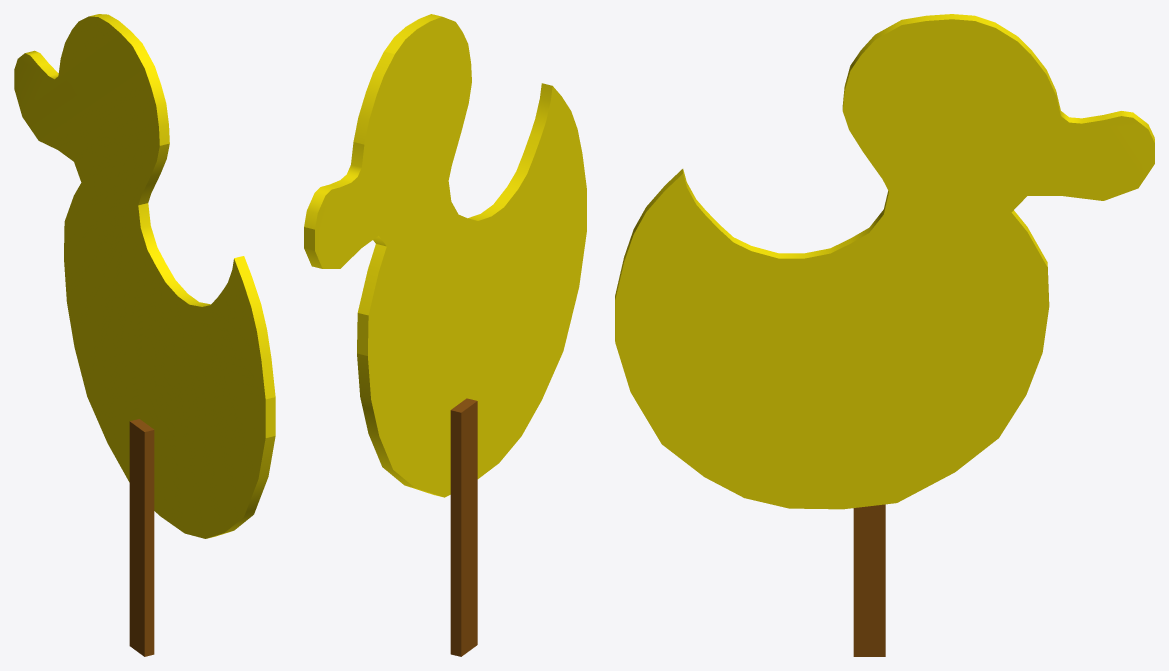
File: DuckTarget.obj
The picture shows the model from 3 angles, left to right: view 1: azimuth 30°, elevation 25°; view 2: azimuth 150°, elevation 25°; view 3: azimuth 270°, elevation 25°; orthographic projection. The views are drawn at different scales.
Parts seen in each view (by area): view 1: Cube.001; view 2: Cube.001; view 3: Cube.001.
Part boxes in pixels (<box>): Cube.001: <box>14,14,275,656</box>; Cube.001: <box>304,14,586,656</box>; Cube.001: <box>615,14,1154,656</box>.
Bounding box in the file's own units: 0.1877 × 5.32 × 4.05.
